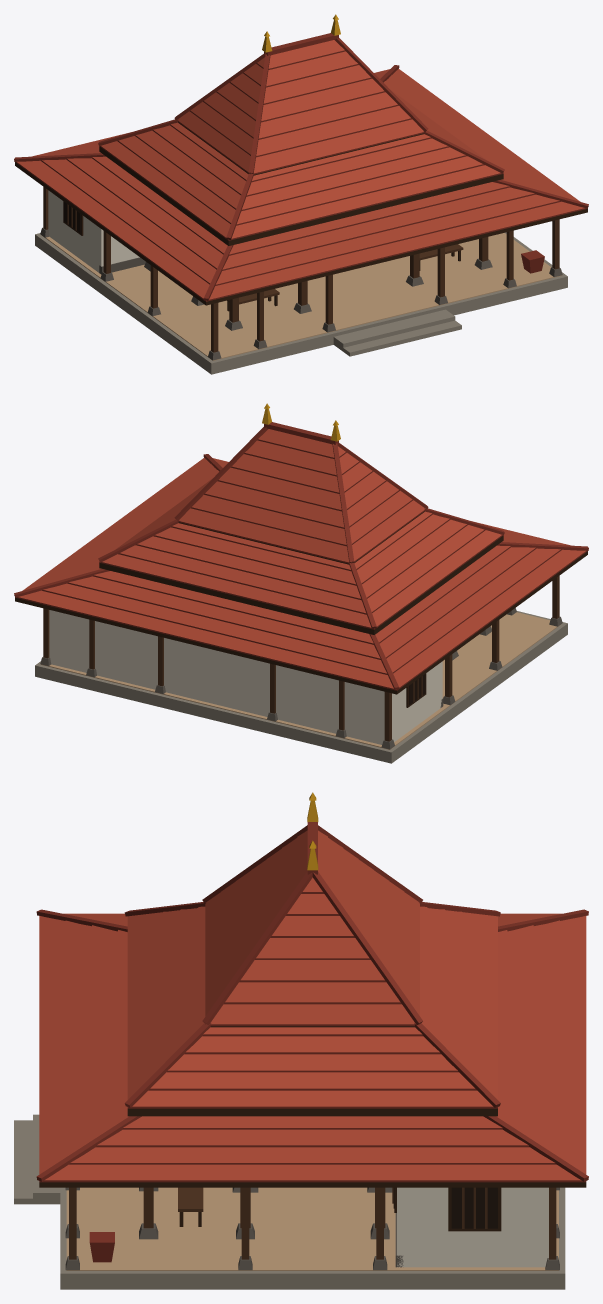
Rendered from rumah_joglo.glb.
3 renders of one model, top to bottom at view 1: azimuth 30°, elevation 25°; view 2: azimuth 150°, elevation 25°; view 3: azimuth 270°, elevation 25°, orthographic. The views are drawn at different scales.
Parts seen in each view (by area): view 1: rumah_joglo; view 2: rumah_joglo; view 3: rumah_joglo.
Part boxes in pixels (<box>): rumah_joglo: <box>14,14,588,374</box>; rumah_joglo: <box>14,403,588,763</box>; rumah_joglo: <box>14,792,588,1289</box>.
Size of the model in its own units: 15.13 by 9.15 by 13.66.
